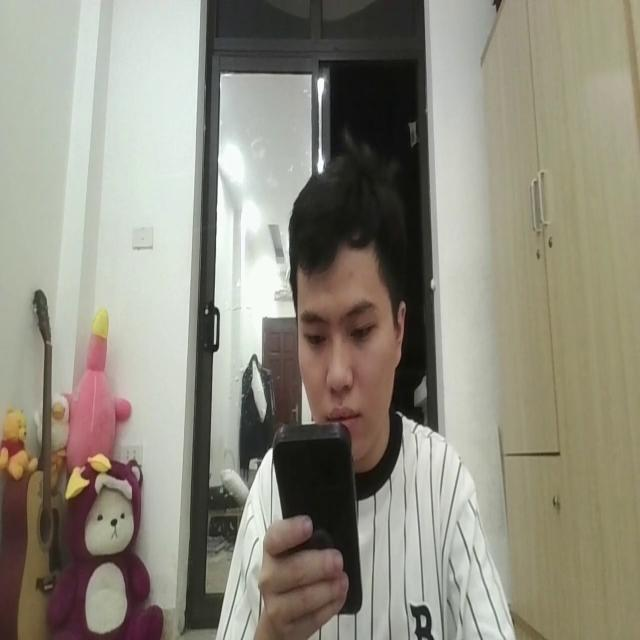phone: (274, 417, 362, 618)
student: (220, 141, 518, 640)
